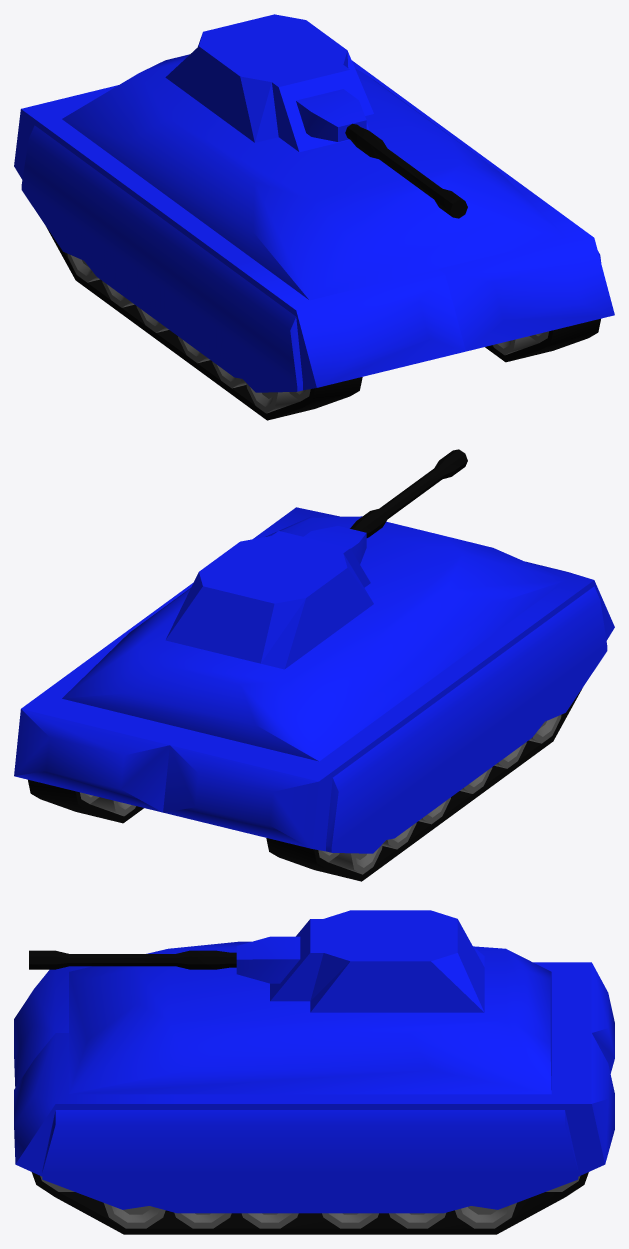
Rendered from Reaper.fbx.
3 views of the same model, one above another, from view 1: azimuth 30°, elevation 25°; view 2: azimuth 150°, elevation 25°; view 3: azimuth 270°, elevation 25° (orthographic). The views are drawn at different scales.
Visible parts, largest first — view 1: Top, Body, Armor, Head, Extrudieren, GunSocket, Gun, Zylinder_3; view 2: Top, Body, Armor, Head, Extrudieren, Gun, Zylinder_6, GunSocket; view 3: Top, Armor, Body, Head, Extrudieren, Gun, GunSocket, Zylinder_3, Zylinder_6, Zylinder_5, Zylinder_2, Zylinder_1 (+1 smaller).
Boxes of the visible parts, left/top/right/bottom form: Top: left=62, top=54, right=566, bottom=300; Body: left=14, top=60, right=614, bottom=390; Armor: left=21, top=125, right=601, bottom=392; Head: left=165, top=14, right=373, bottom=152; Extrudieren: left=46, top=227, right=600, bottom=420; GunSocket: left=296, top=89, right=366, bottom=141; Gun: left=345, top=123, right=467, bottom=218; Zylinder_3: left=246, top=336, right=538, bottom=413; Top: left=62, top=516, right=566, bottom=761; Body: left=14, top=507, right=614, bottom=851; Armor: left=326, top=586, right=607, bottom=853; Head: left=165, top=531, right=373, bottom=669; Extrudieren: left=28, top=688, right=582, bottom=881; Gun: left=350, top=449, right=467, bottom=537; Zylinder_6: left=90, top=797, right=382, bottom=874; GunSocket: left=303, top=526, right=366, bottom=564; Top: left=69, top=941, right=551, bottom=1094; Armor: left=42, top=1110, right=578, bottom=1209; Body: left=14, top=962, right=614, bottom=1213; Head: left=270, top=910, right=484, bottom=1012; Extrudieren: left=31, top=1172, right=588, bottom=1234; Gun: left=29, top=950, right=236, bottom=969; GunSocket: left=236, top=936, right=300, bottom=983; Zylinder_3: left=104, top=1203, right=165, bottom=1228; Zylinder_6: left=455, top=1203, right=516, bottom=1228; Zylinder_5: left=389, top=1213, right=445, bottom=1228; Zylinder_2: left=174, top=1212, right=231, bottom=1228; Zylinder_1: left=322, top=1213, right=378, bottom=1228.
Size of the model in its own units: 338 by 247 by 583.
